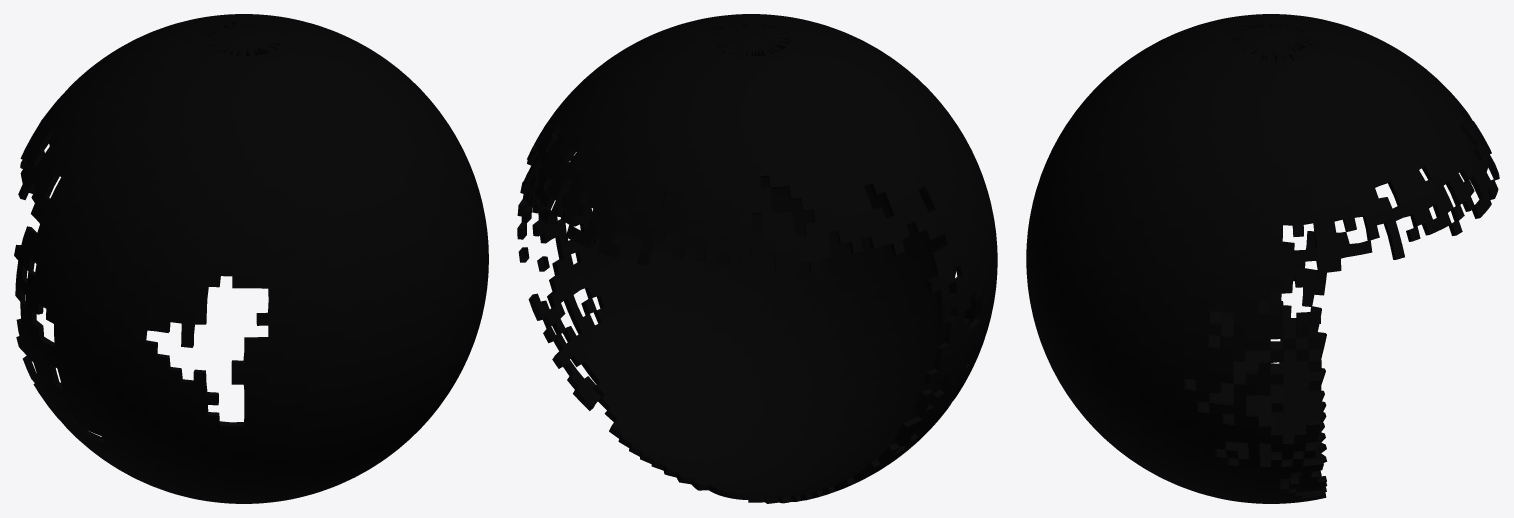
File: MM__DIscoKuglYdre22.glb
3 views of the same model, side by side, from view 1: azimuth 30°, elevation 25°; view 2: azimuth 150°, elevation 25°; view 3: azimuth 270°, elevation 25° (orthographic).
Visible parts, largest first — view 1: 03_NatSmaaSpejle_HalvDiscoKLippede; view 2: 03_NatSmaaSpejle_HalvDiscoKLippede; view 3: 03_NatSmaaSpejle_HalvDiscoKLippede.
Boxes of the visible parts, x1,y1,x2,y2 form: 03_NatSmaaSpejle_HalvDiscoKLippede: (14, 14, 488, 503); 03_NatSmaaSpejle_HalvDiscoKLippede: (517, 14, 997, 503); 03_NatSmaaSpejle_HalvDiscoKLippede: (1026, 14, 1499, 503).
Size of the model in its own units: 2.21 by 2.22 by 2.14.
1 material, 1 textured.
